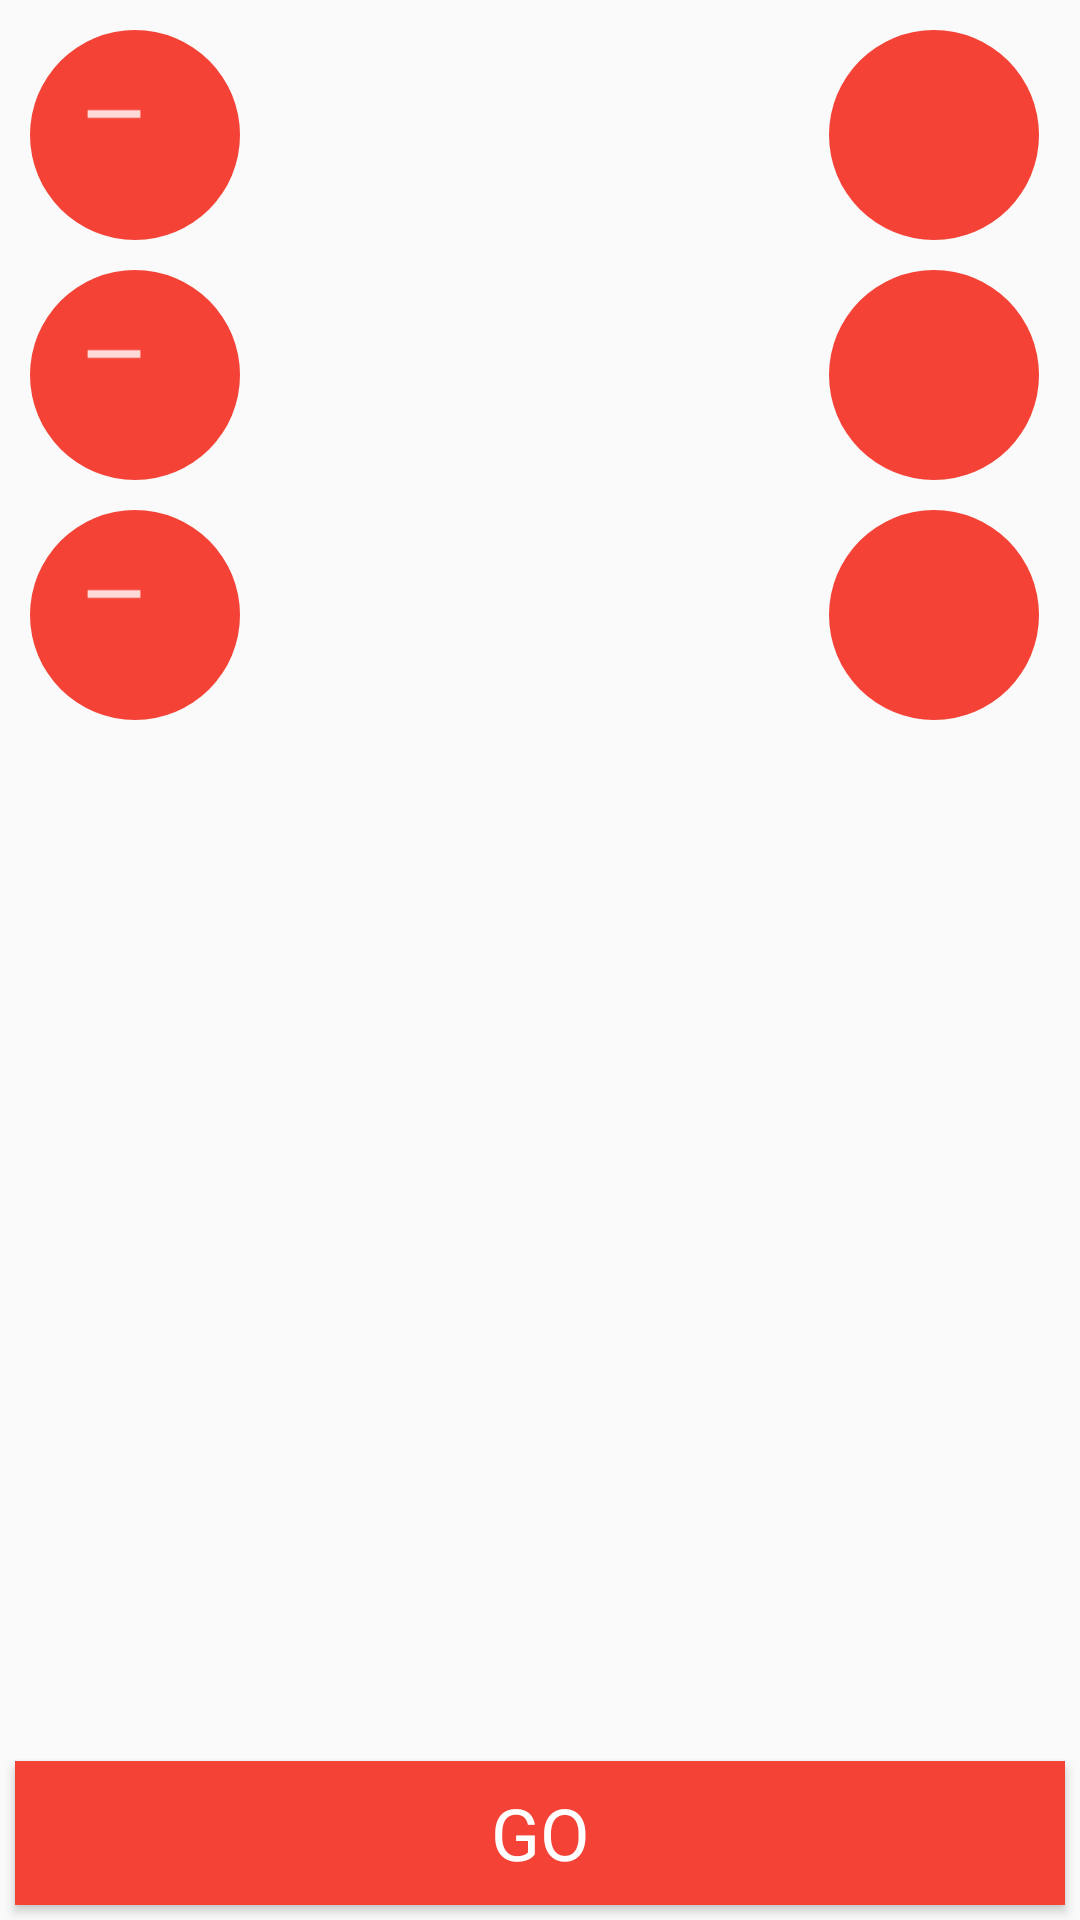

Locate icon controls on the screen. Image size 1080w x 1920h, boxes as (x1, y1, x2, y2).
content remove: (30, 30, 240, 240), (30, 270, 240, 480), (30, 510, 240, 720)
